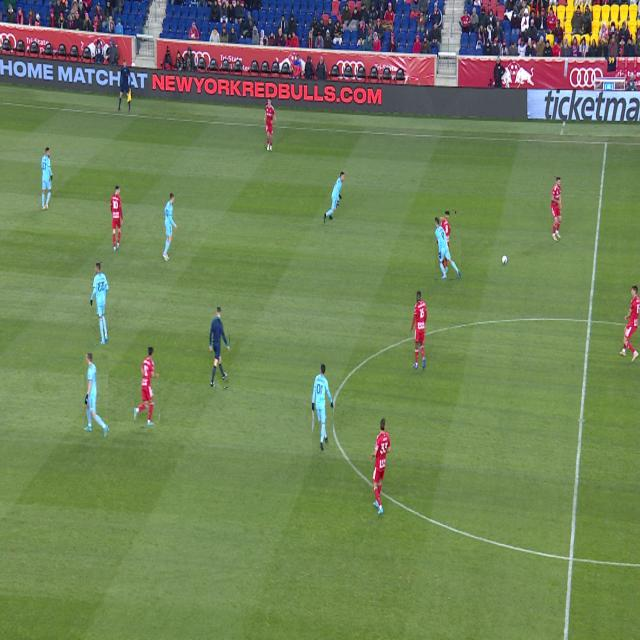football: (501, 255, 507, 265)
player: (134, 347, 159, 426), (85, 353, 108, 438), (312, 364, 333, 450), (371, 419, 390, 514), (435, 217, 461, 279), (90, 263, 109, 344), (620, 286, 640, 360), (410, 292, 427, 368), (324, 172, 344, 220), (163, 193, 177, 261), (111, 186, 123, 252), (41, 149, 53, 210), (551, 178, 562, 240), (265, 98, 275, 150), (446, 211, 455, 248), (448, 256, 451, 274)
referee: (210, 308, 229, 387)
